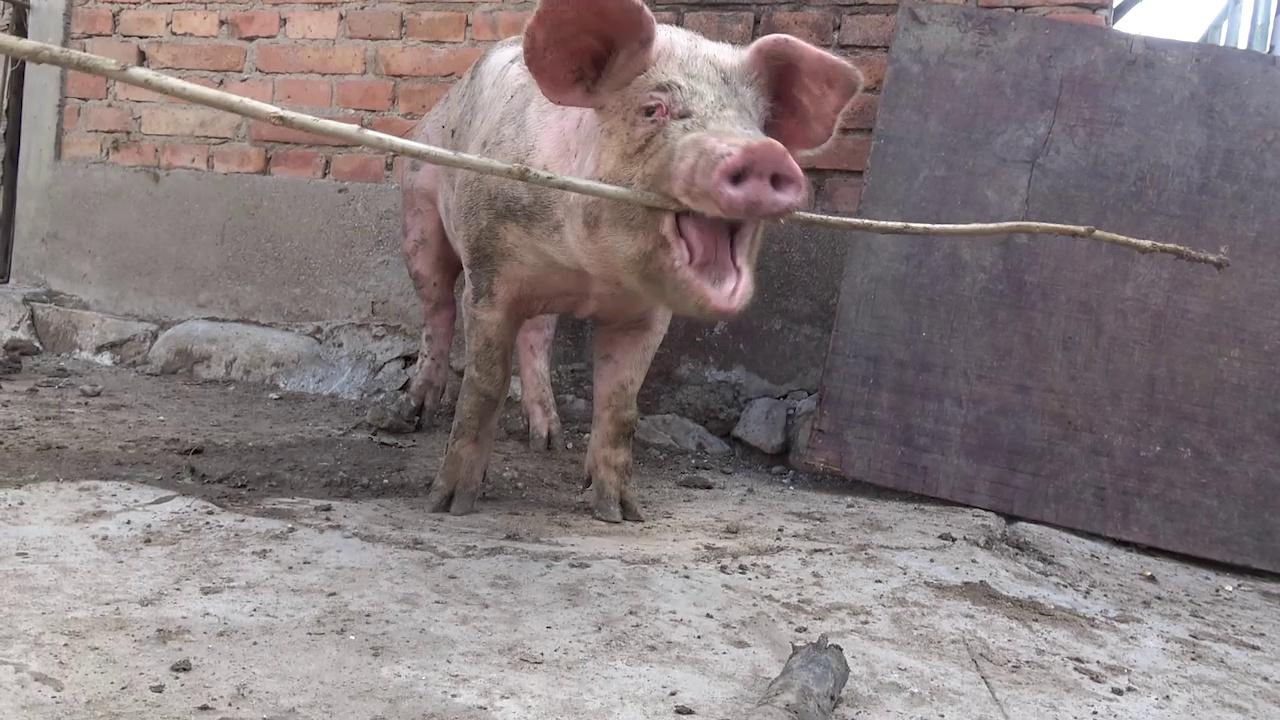Face: (516, 0, 868, 333)
